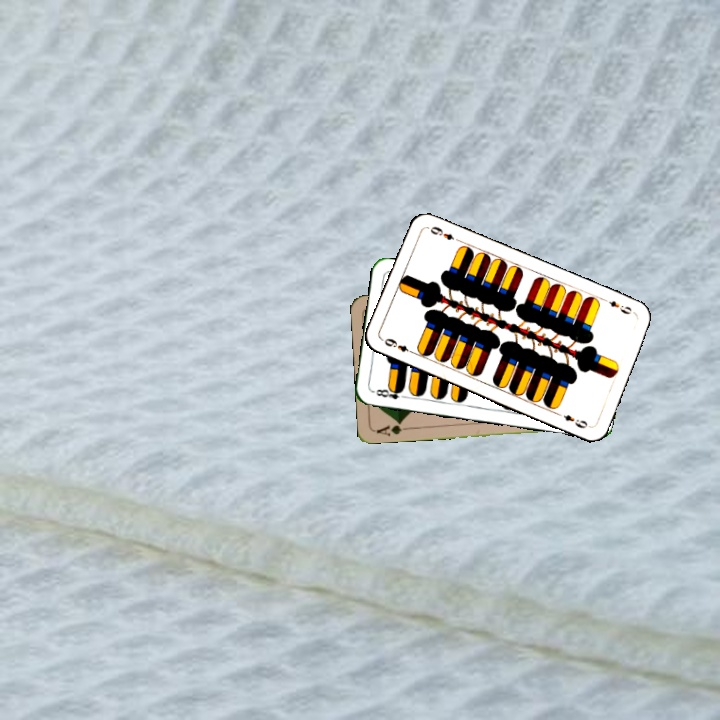E8: (369, 383, 410, 402)
E9: (380, 334, 417, 357), (600, 295, 638, 317)
GA: (372, 417, 413, 438)
